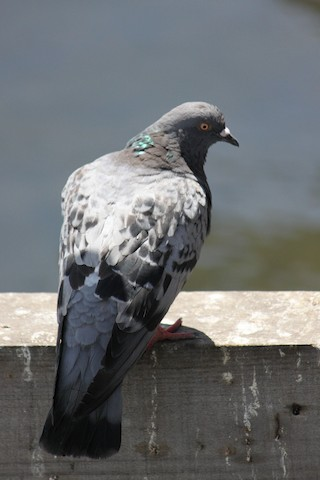pigeon: (31, 93, 248, 459)
